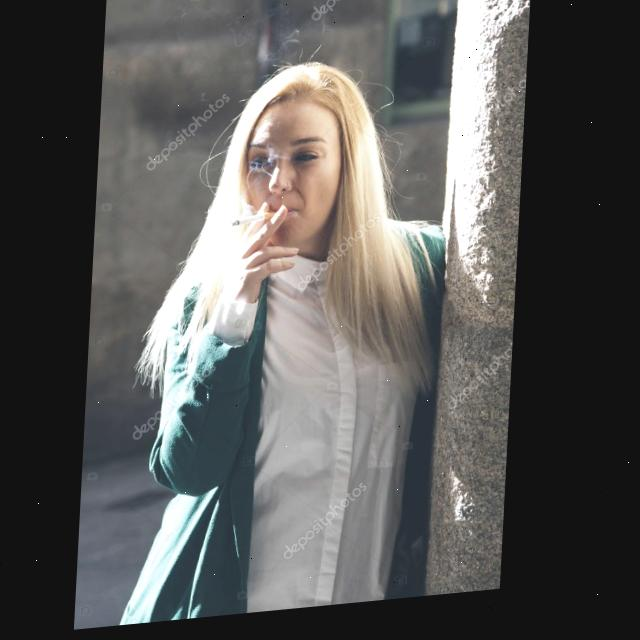cigarette: (234, 218, 280, 231)
